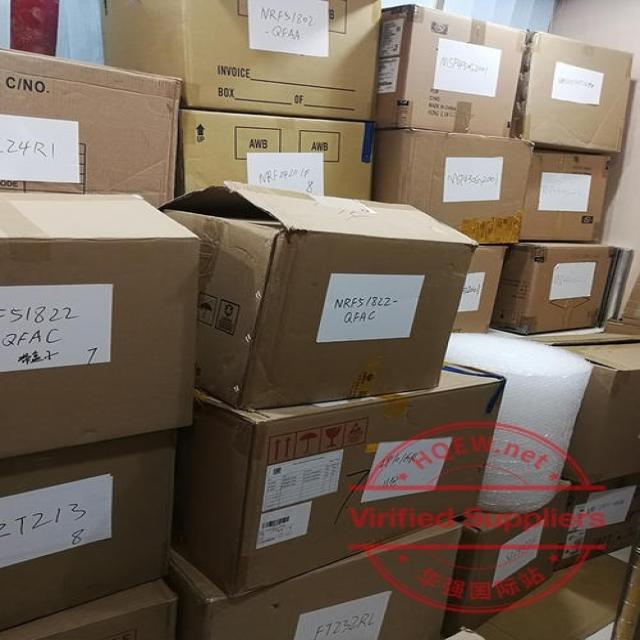box: (173, 360, 507, 600), (157, 179, 477, 407), (0, 193, 201, 458), (164, 518, 462, 640), (0, 429, 178, 630), (100, 0, 383, 123), (0, 48, 180, 206), (370, 3, 527, 136), (442, 480, 573, 636), (372, 129, 535, 244), (518, 332, 640, 485), (178, 110, 374, 200), (513, 29, 634, 152), (493, 241, 618, 334), (0, 580, 178, 639), (556, 472, 640, 570), (522, 152, 611, 241), (451, 245, 508, 334), (449, 628, 485, 640)
